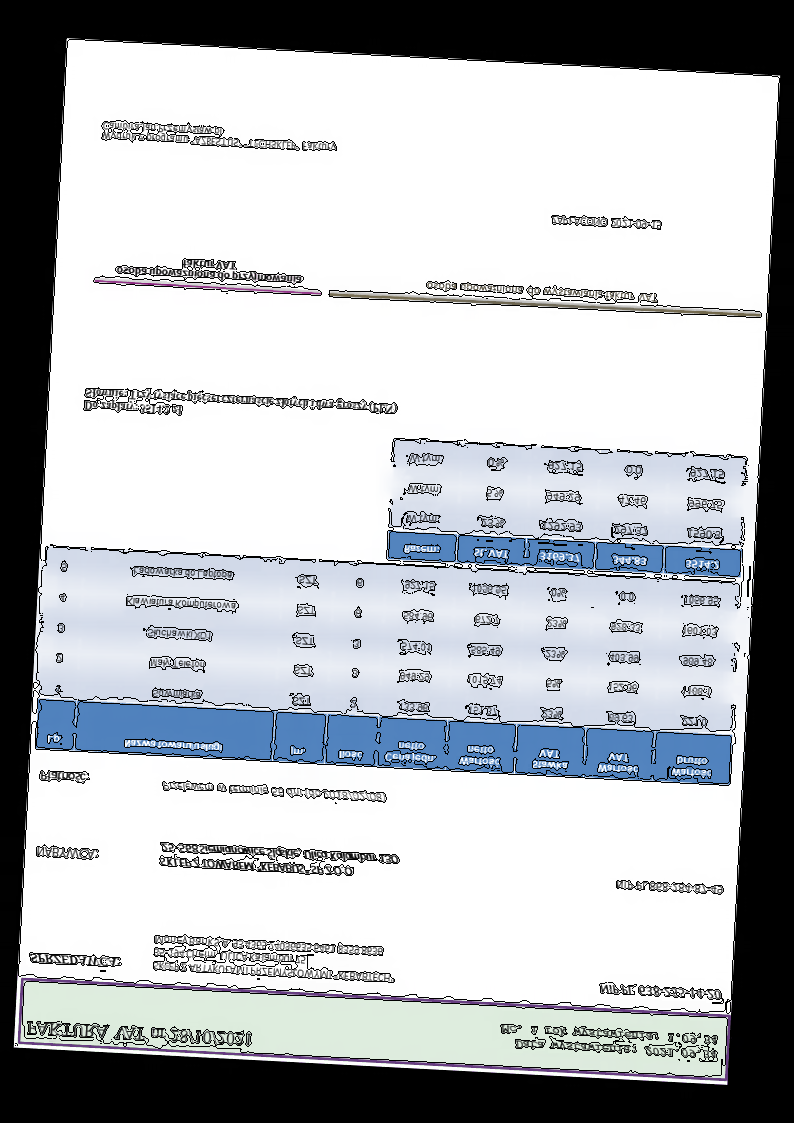Table: (34, 544, 742, 787), (385, 437, 749, 579)
TextBox: (81, 384, 398, 429), (149, 932, 399, 986), (157, 840, 400, 880), (497, 1021, 719, 1062), (99, 118, 339, 155), (24, 1018, 254, 1049), (114, 253, 305, 289), (160, 778, 387, 806), (424, 279, 659, 306), (597, 981, 723, 1003), (548, 213, 662, 232), (614, 878, 724, 896), (27, 951, 122, 969), (34, 844, 99, 862), (38, 768, 91, 786)
